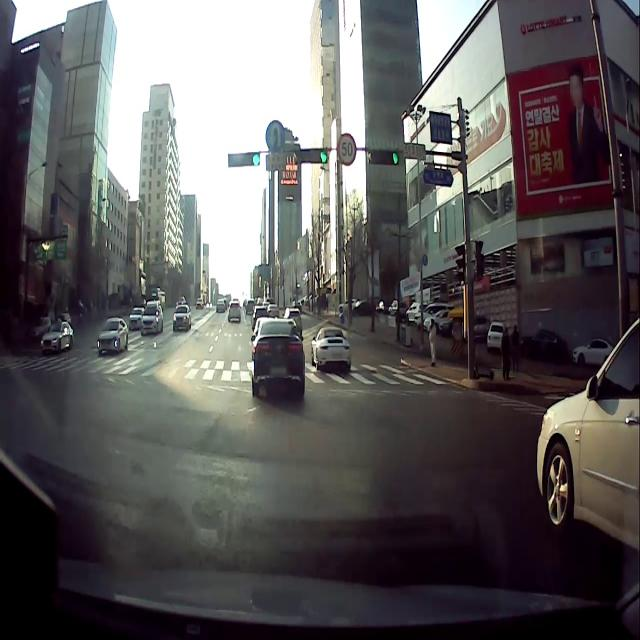Green Light: (389, 149, 400, 165), (250, 151, 260, 167), (318, 147, 328, 162)
